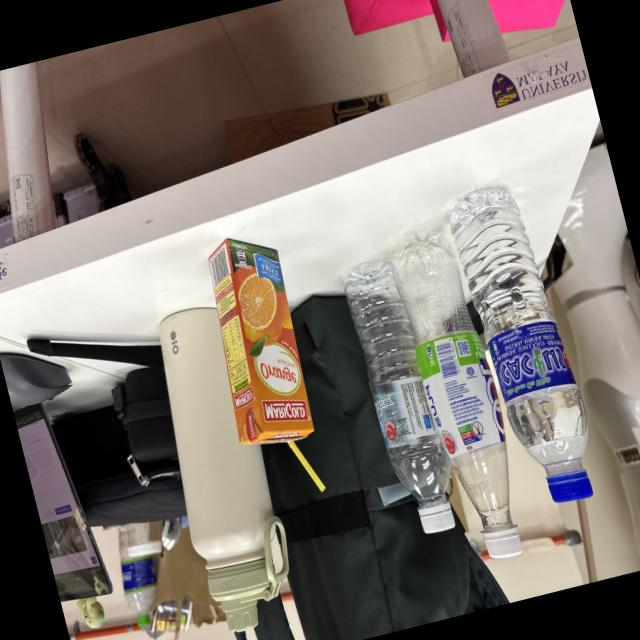drink_carton: (185, 218, 347, 513)
plastic_bottle: (434, 160, 612, 522), (374, 205, 542, 572), (330, 244, 475, 549)
